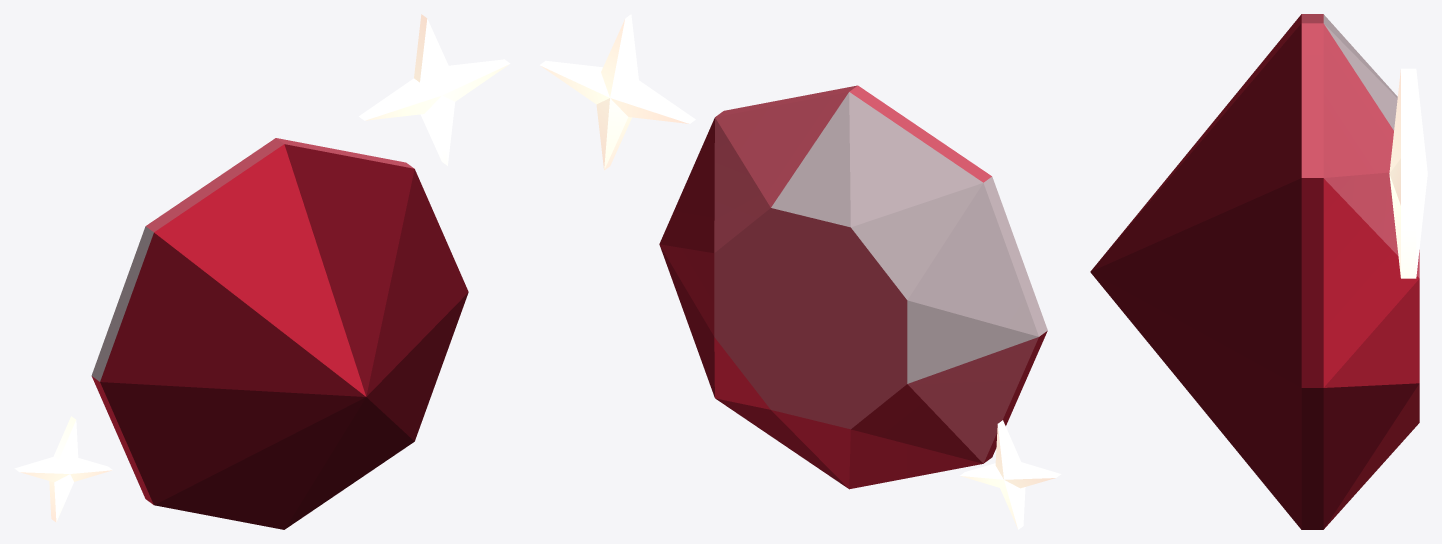
File: gem_ruby_low.glb
The picture shows the model from 3 angles, left to right: view 1: azimuth 30°, elevation 25°; view 2: azimuth 150°, elevation 25°; view 3: azimuth 270°, elevation 25°; orthographic projection. The views are drawn at different scales.
Size of the model in its own units: 0.269 by 0.2276 by 0.123.
